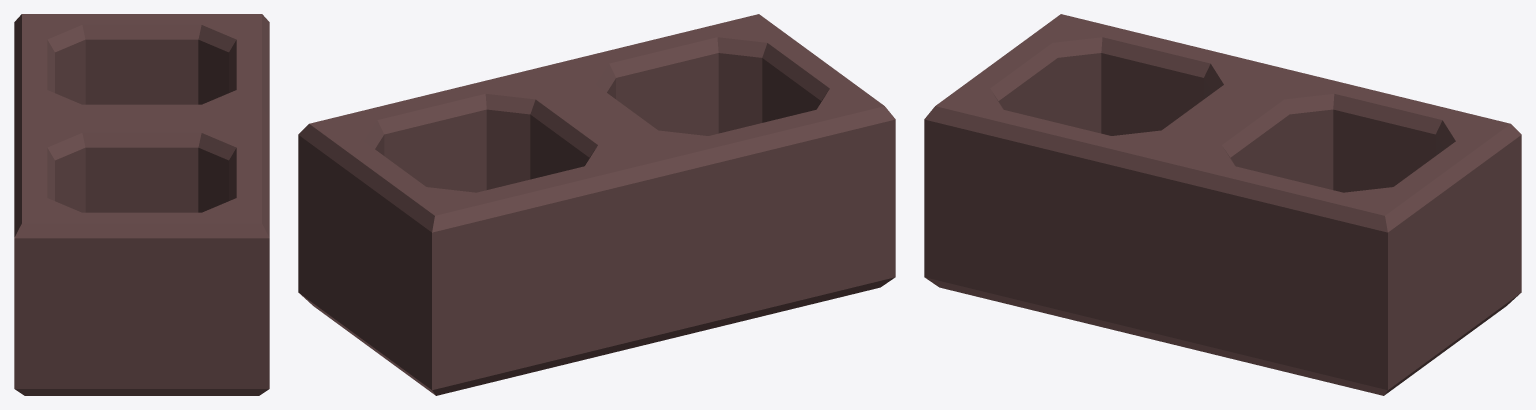
File: brick_a002.glb
The picture shows the model from 3 angles, left to right: view 1: azimuth 30°, elevation 25°; view 2: azimuth 150°, elevation 25°; view 3: azimuth 270°, elevation 25°; orthographic projection. The views are drawn at different scales.
Parts seen in each view (by area): view 1: brick_a002; view 2: brick_a002; view 3: brick_a002.
Part boxes in pixels (bbox=[...]): brick_a002: bbox=[14, 14, 269, 395]; brick_a002: bbox=[298, 14, 895, 395]; brick_a002: bbox=[924, 14, 1521, 395].
Bounding box in the file's own units: 0.3732 × 0.1499 × 0.4464.
1 material, 1 textured.
